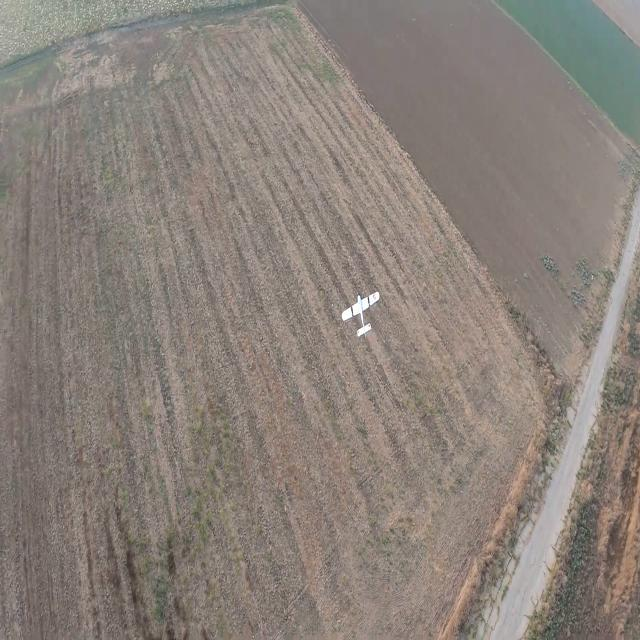iha: (338, 290, 383, 338)
